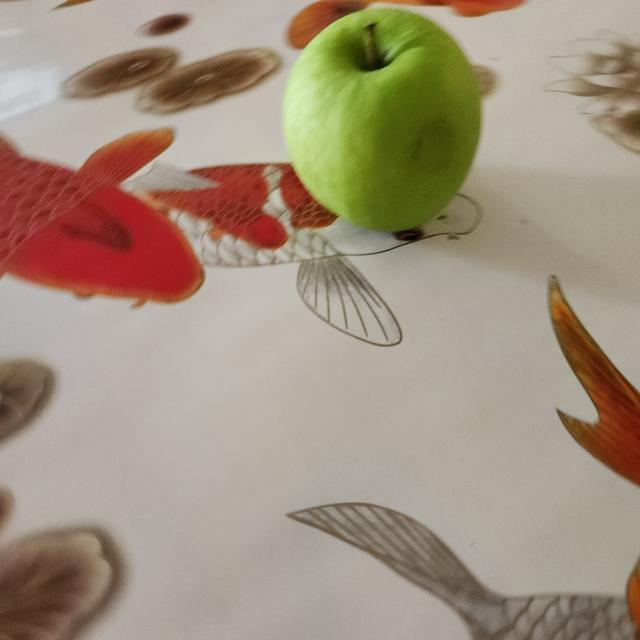apple: (274, 0, 488, 244)
